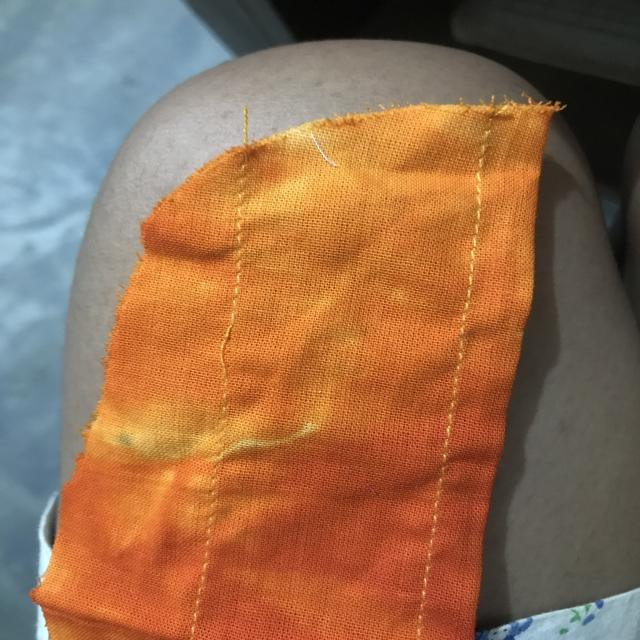good: (436, 361, 463, 464)
skip: (196, 308, 250, 389)
